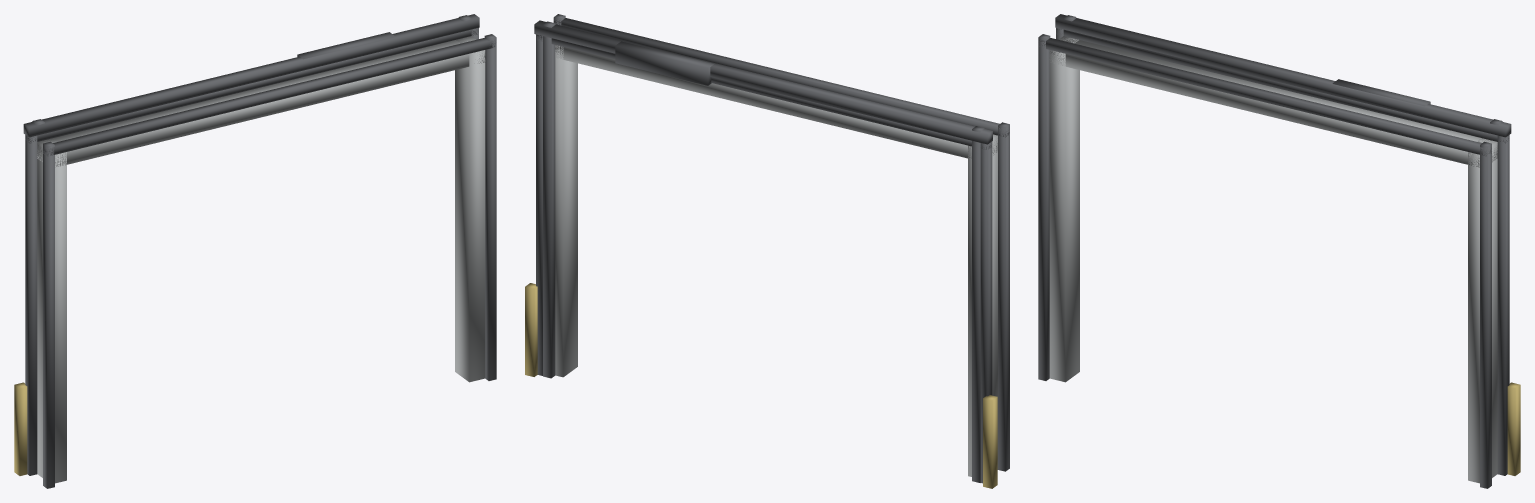
Rendered from bay_opening_service_bay_w480_h360_d30.glb.
The picture shows the model from 3 angles, left to right: view 1: azimuth 30°, elevation 25°; view 2: azimuth 150°, elevation 25°; view 3: azimuth 330°, elevation 25°; orthographic projection.
Parts seen in each view (by area): view 1: world; view 2: world; view 3: world.
Part boxes in pixels (x1,y1,x2,y2): world: (14,14,496,488); world: (525,14,1009,488); world: (1038,14,1520,488).
Bounding box in the file's own units: 5.54 × 3.99 × 0.522.
